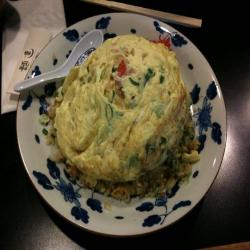omelette: (53, 33, 193, 197)
